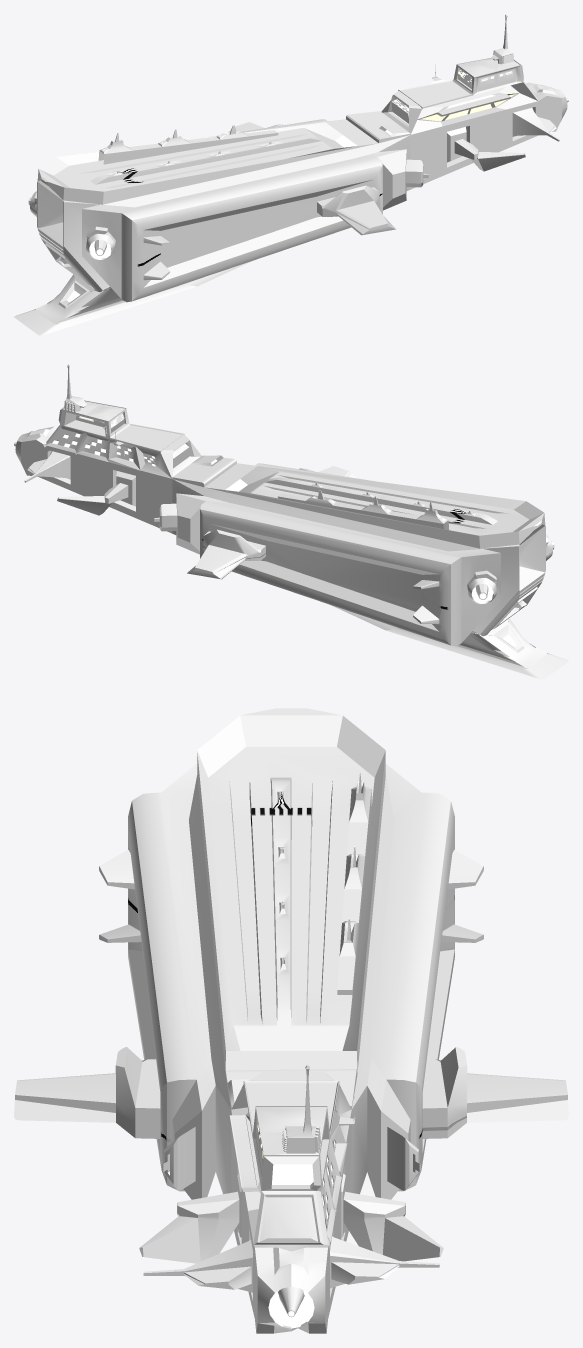
File: spaceship.glb
3 views of the same model, one above another, from view 1: azimuth 30°, elevation 25°; view 2: azimuth 150°, elevation 25°; view 3: azimuth 270°, elevation 25° (orthographic). The views are drawn at different scales.
Parts seen in each view (by area): view 1: large spaceship; view 2: large spaceship; view 3: large spaceship.
Part boxes in pixels (x1=…): large spaceship: x1=14, y1=14, x2=568, y2=335; large spaceship: x1=14, y1=364, x2=568, y2=679; large spaceship: x1=14, y1=708, x2=568, y2=1333.
Bounding box in the file's own units: 18.96 × 6.37 × 8.43.
Materials: 6 (1 with a texture image).
